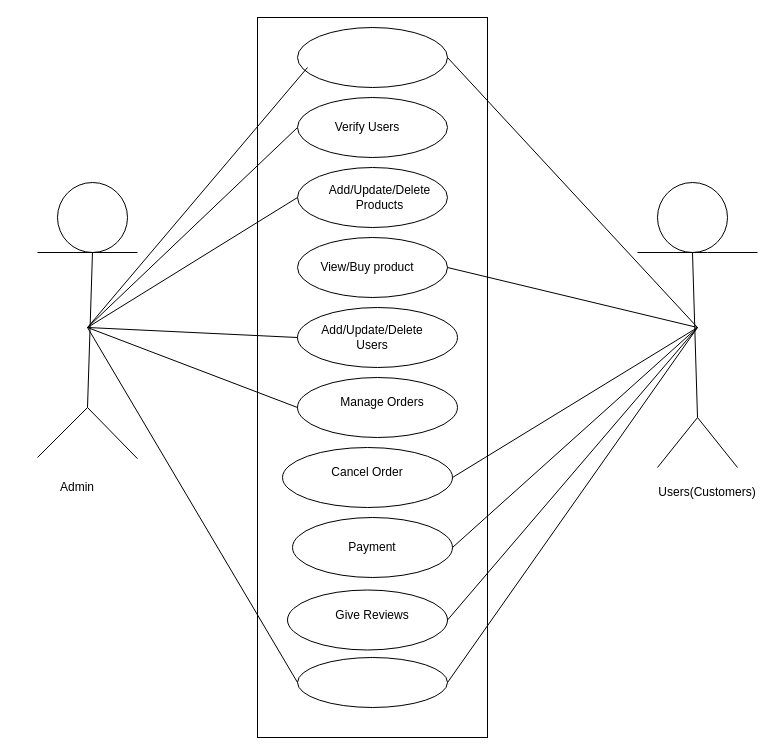
This 776x755 diagram has some shape labels left out. The shapes that lost their labels are listed below. From the top down, each one's box as (x1, y1, x2, y2) in pixels, then its label:
(296, 26, 448, 88): Signup/Login
(296, 656, 448, 708): LogOut
